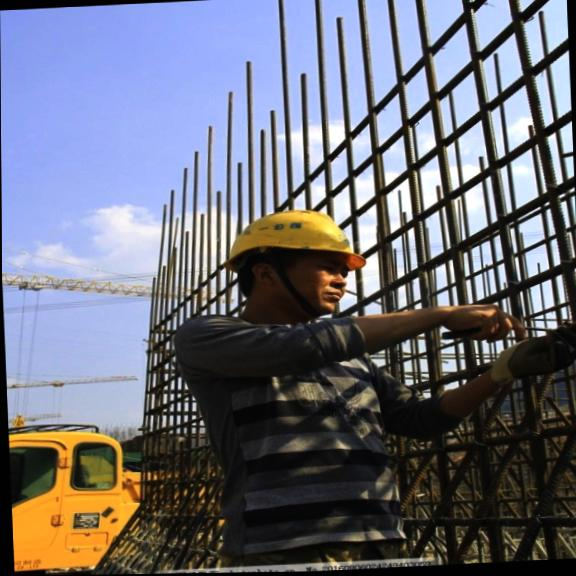no_safety_vest: (174, 308, 428, 557)
